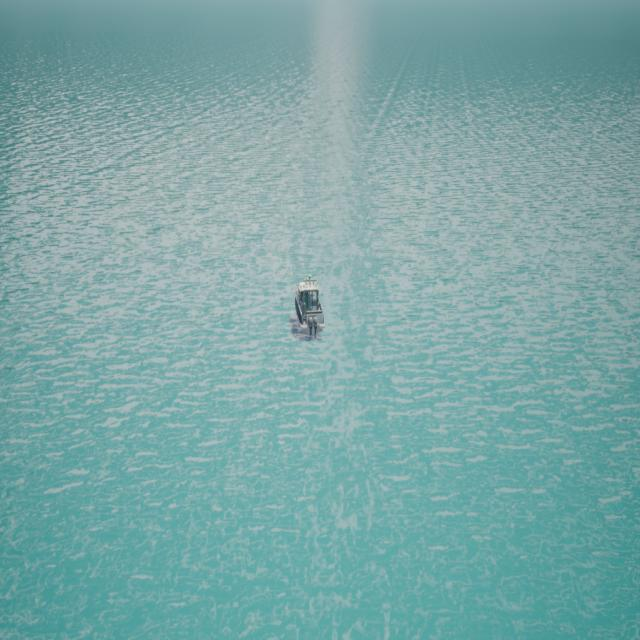ship: (290, 280, 326, 342)
